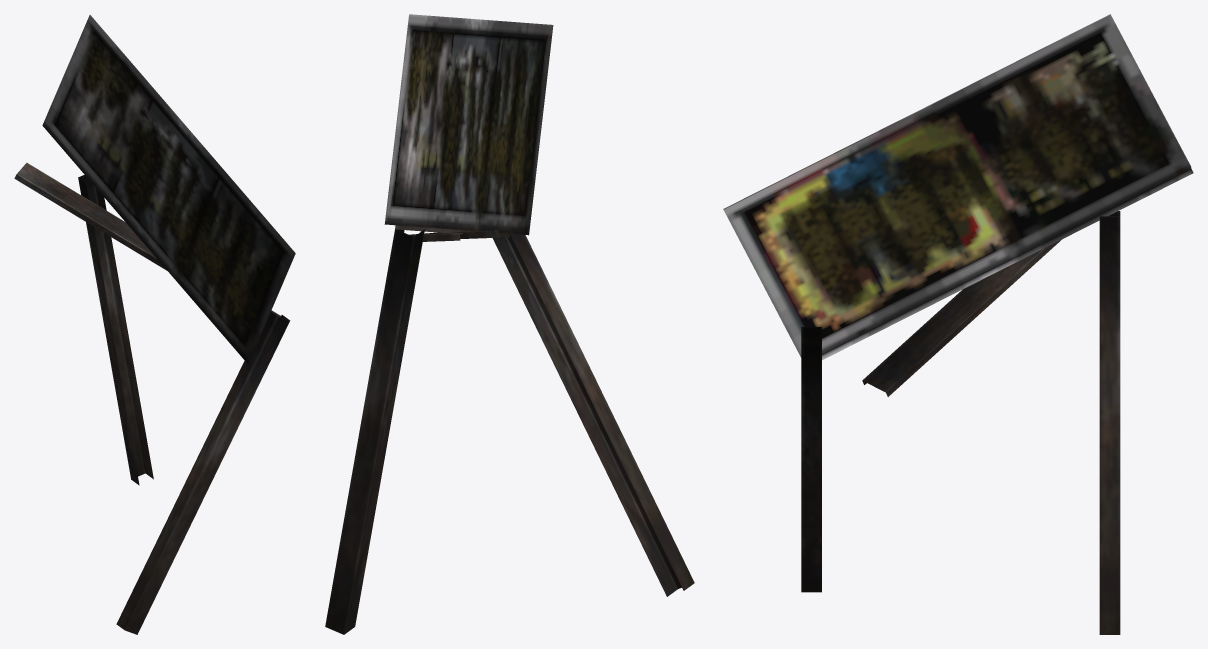
The model's file is Environment - Prop - Billboard 02 - Damaged - PMBillbrd04_D.glb.
3 views of the same model, side by side, from view 1: azimuth 30°, elevation 25°; view 2: azimuth 150°, elevation 25°; view 3: azimuth 270°, elevation 25° (orthographic). The views are drawn at different scales.
Parts seen in each view (by area): view 1: PMBILLBRD04_D; view 2: PMBILLBRD04_D; view 3: PMBILLBRD04_D.
Part boxes in pixels (box(x1,y1,x2,y2)): PMBILLBRD04_D: box(14, 15, 295, 634); PMBILLBRD04_D: box(325, 14, 694, 634); PMBILLBRD04_D: box(723, 14, 1193, 634).
Size of the model in its own units: 18.89 by 48.1 by 32.8.
1 material, 1 textured.
